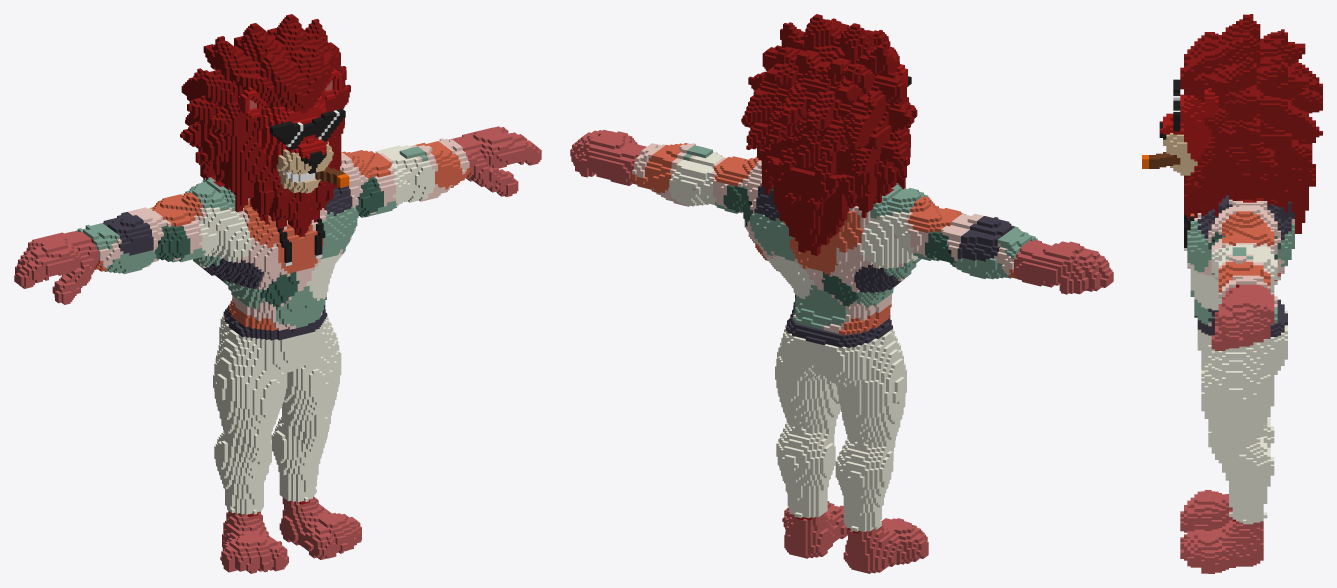
Rendered from 832-1DfPLNmo.fbx.
The picture shows the model from 3 angles, left to right: view 1: azimuth 30°, elevation 25°; view 2: azimuth 150°, elevation 25°; view 3: azimuth 270°, elevation 25°; orthographic projection. The views are drawn at different scales.
Parts seen in each view (by area): view 1: cigar; view 2: cigar; view 3: cigar.
Part boxes in pixels (left/top/right/bottom): cigar: left=14, top=14, right=541, bottom=573; cigar: left=570, top=14, right=1113, bottom=573; cigar: left=1142, top=14, right=1322, bottom=573.
Bounding box in the file's own units: 17.2 × 16.5 × 5.2.
5 materials, 5 textured.
